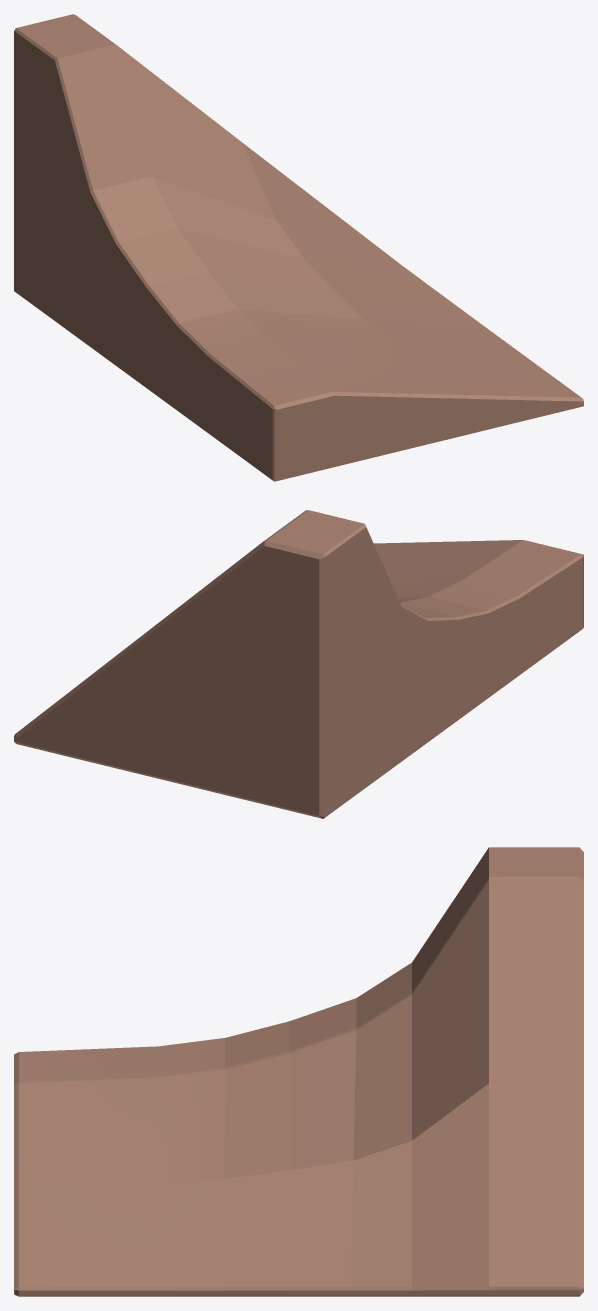
File: mesh_rampEndRightMod.fbx
3 views of the same model, one above another, from view 1: azimuth 30°, elevation 25°; view 2: azimuth 150°, elevation 25°; view 3: azimuth 270°, elevation 25° (orthographic). The views are drawn at different scales.
Parts seen in each view (by area): view 1: mesh_rampEndRightMod; view 2: mesh_rampEndRightMod; view 3: mesh_rampEndRightMod.
Part boxes in pixels (x1,y1,x2,y2): mesh_rampEndRightMod: (14,14,583,481); mesh_rampEndRightMod: (14,510,583,818); mesh_rampEndRightMod: (14,847,583,1296).
Size of the model in its own units: 10.26 by 8.33 by 15.
